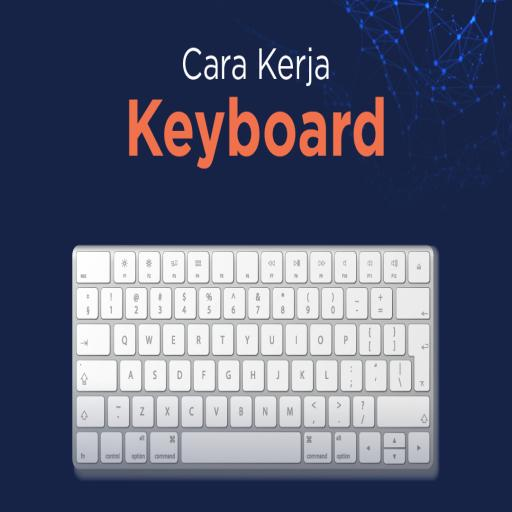keyboard: (64, 244, 439, 479)
